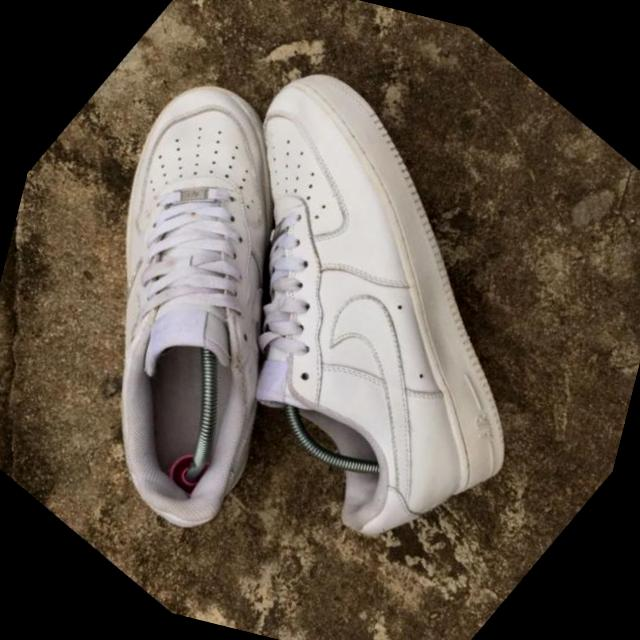nike_original_airforce: (46, 4, 640, 613), (0, 21, 467, 584)
